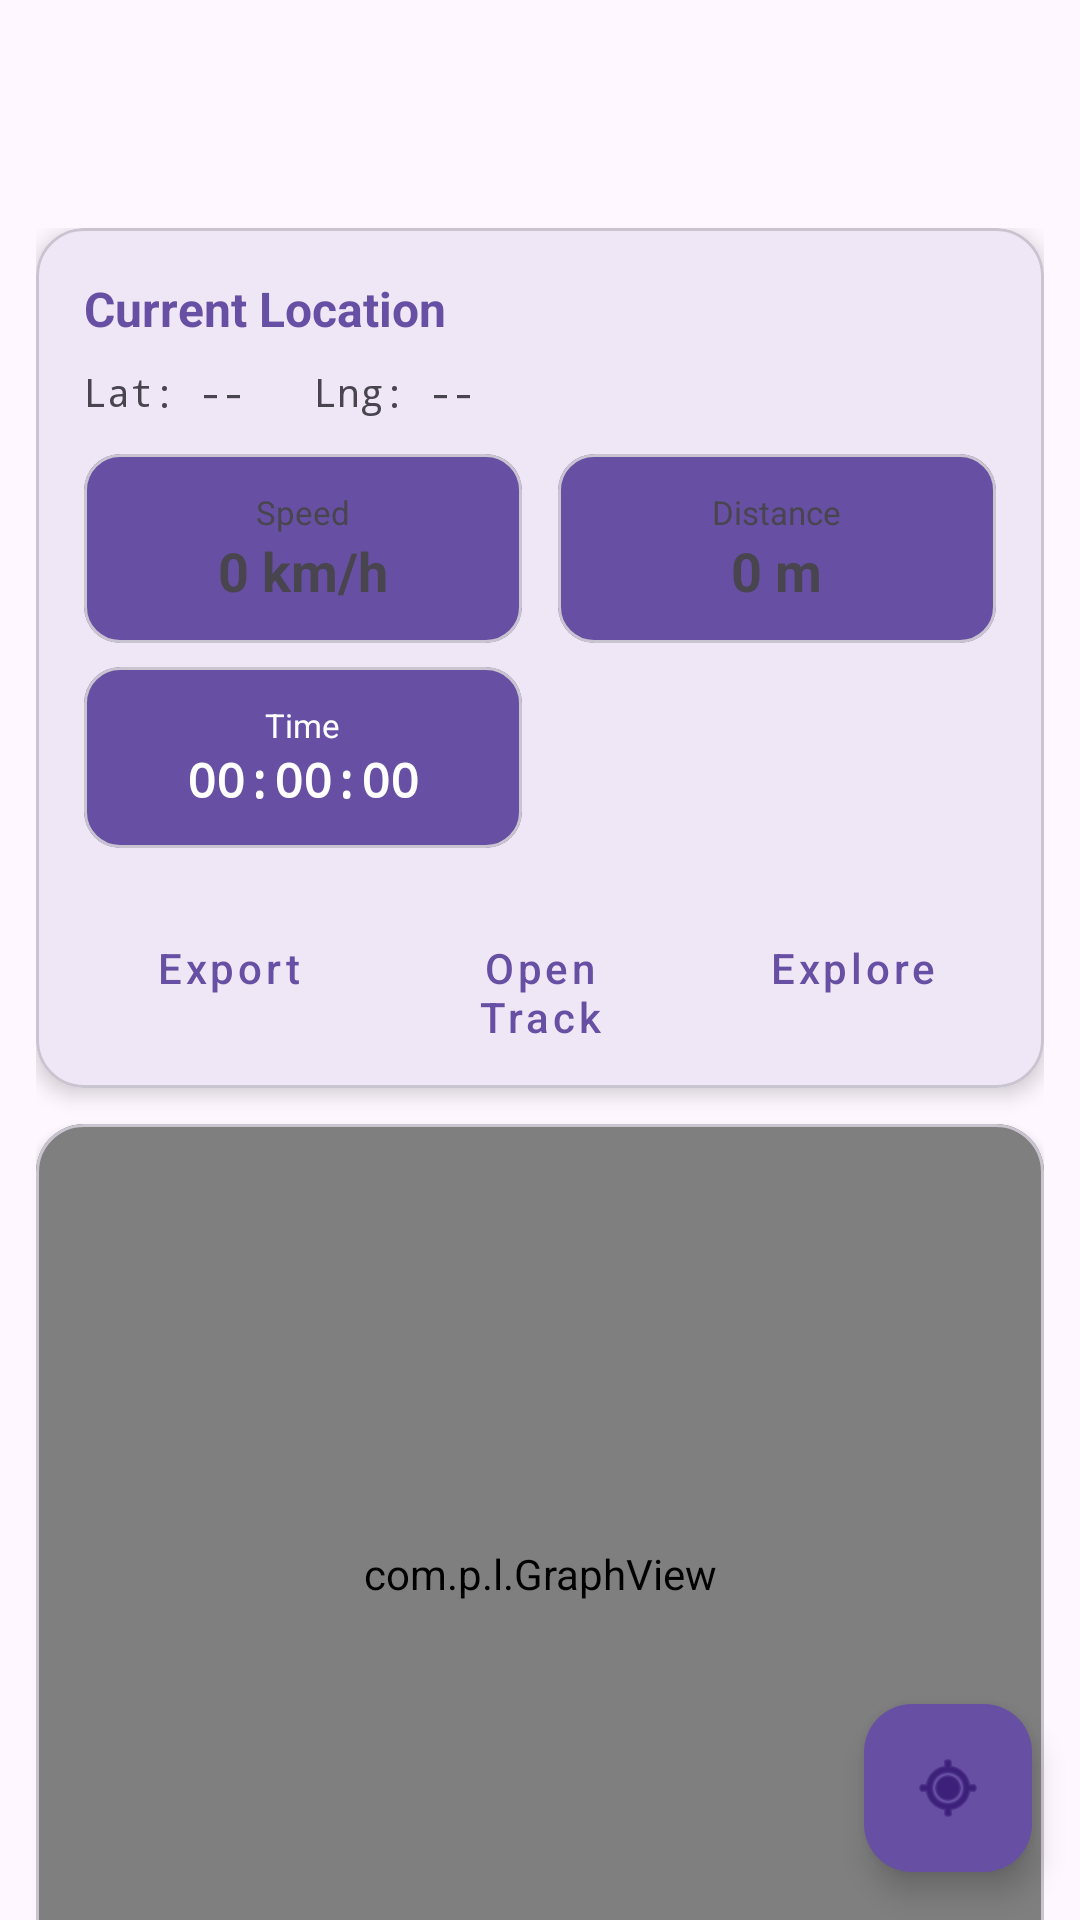

Named icons in this screenshot (1080px×1920px) and their bounding boxes, (x1, y1, x2, y2):
My Location: (864, 1704, 1032, 1872)
